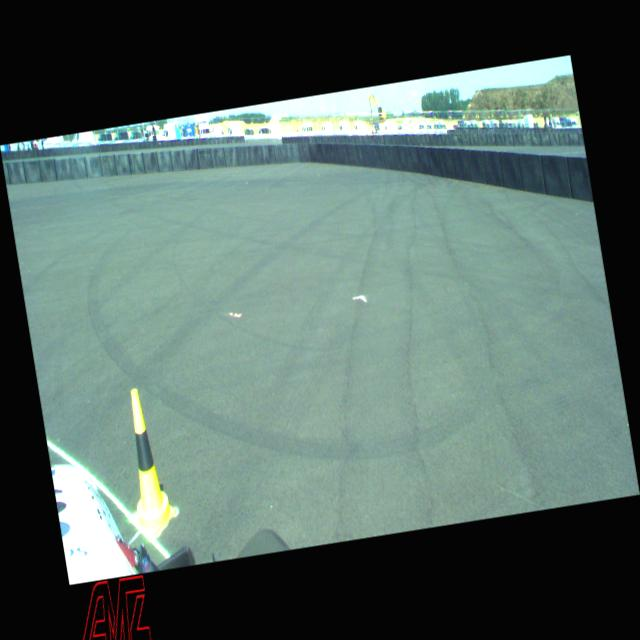yellow_cone: (115, 386, 179, 538)
